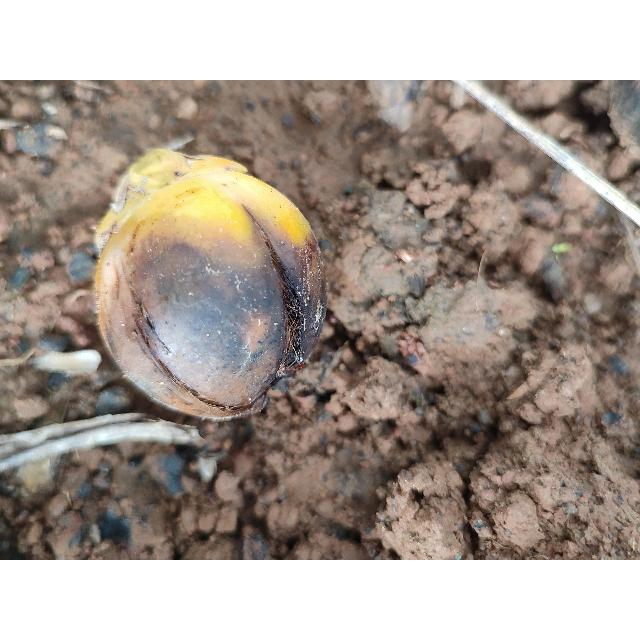damaged: (92, 148, 329, 424)
